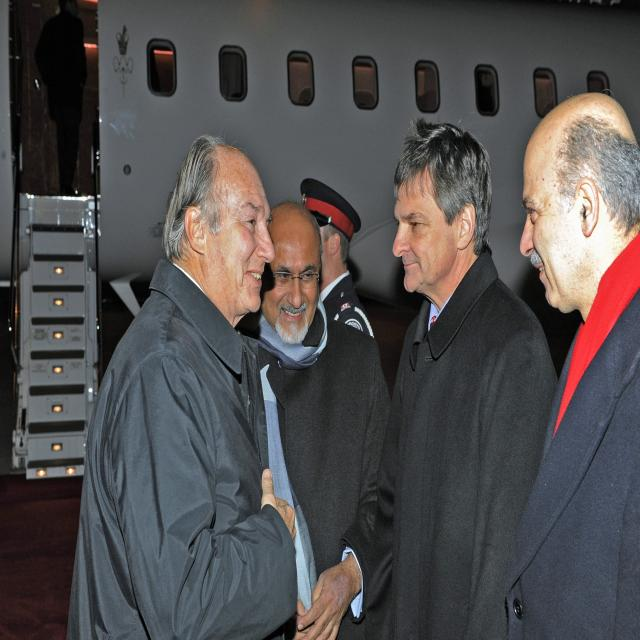body: (65, 133, 299, 640), (380, 114, 559, 640), (491, 84, 640, 639), (252, 199, 391, 639), (298, 174, 378, 340)
